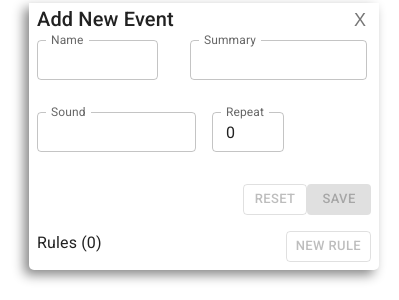
Test case: eventsutil - create › handles reset after name modification
Type "newgrp" into the field with test id "nameInput" at [97, 60], box [37, 40, 158, 80]
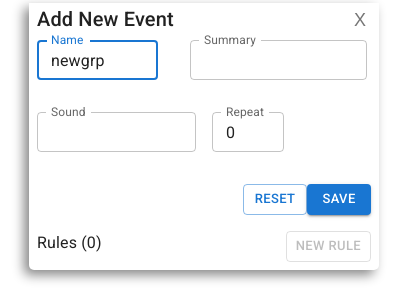
Expected: the button "Reset" is enabled
Click the button "Reset" at [275, 199], box [243, 184, 307, 215]
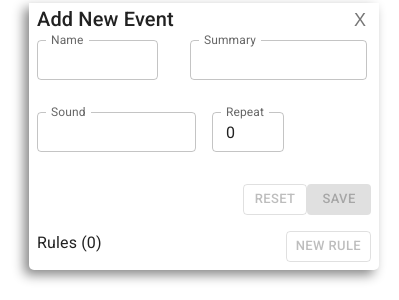
Expected: the button "Reset" is disabled, [243, 184, 307, 215]
